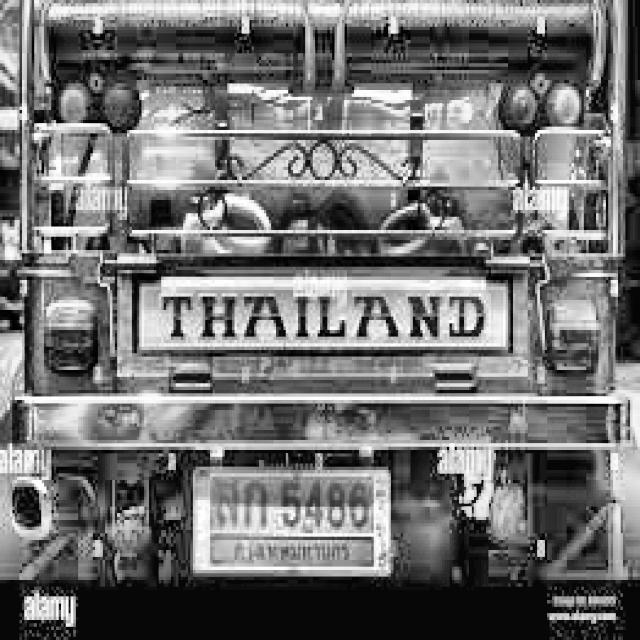license-plate: (190, 470, 394, 572)
